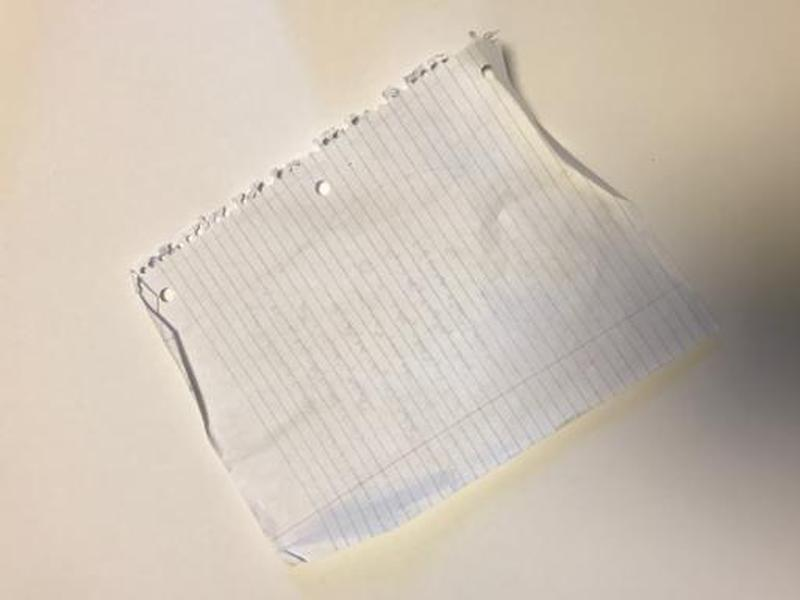paper: (128, 26, 730, 573)
